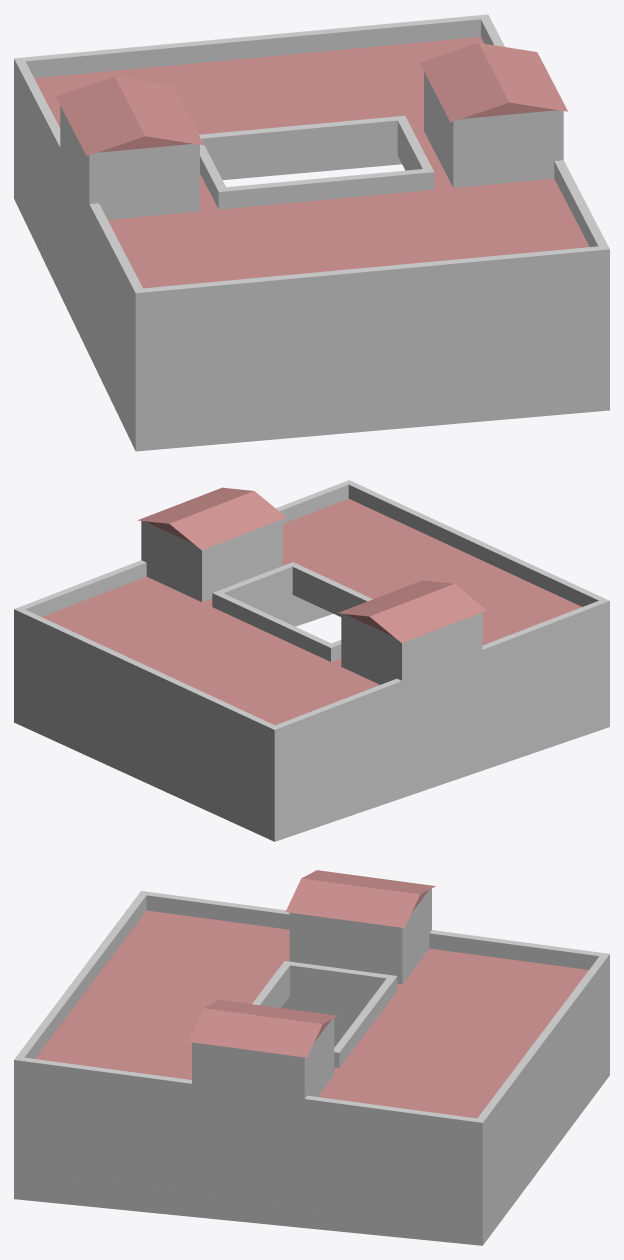
The model's file is LOD_Block_2_24.glb.
3 views of the same model, one above another, from view 1: azimuth 30°, elevation 25°; view 2: azimuth 150°, elevation 25°; view 3: azimuth 270°, elevation 25° (orthographic). The views are drawn at different scales.
Parts seen in each view (by area): view 1: mesh_CityEngineMaterial_325; view 2: mesh_CityEngineMaterial_325; view 3: mesh_CityEngineMaterial_325.
Part boxes in pixels (bbox=[...]): mesh_CityEngineMaterial_325: bbox=[14, 14, 609, 451]; mesh_CityEngineMaterial_325: bbox=[14, 480, 609, 841]; mesh_CityEngineMaterial_325: bbox=[14, 870, 609, 1245].
Bounding box in the file's own units: 32.71 × 12.81 × 35.5.
